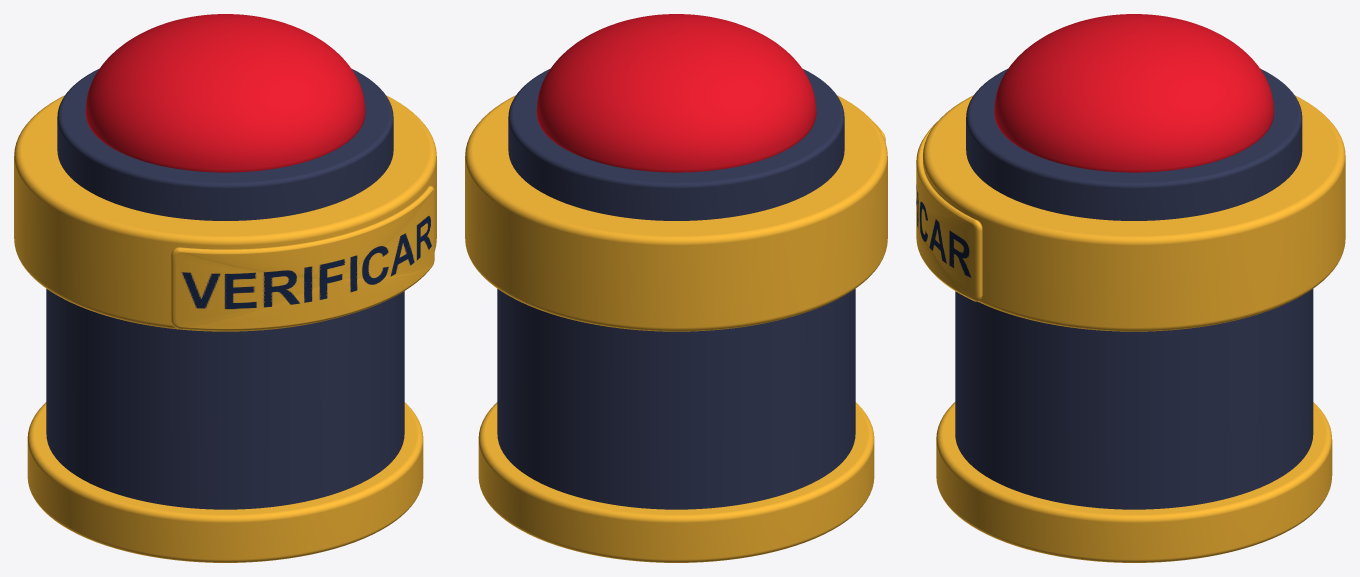
Rendered from VerifyButton.glb.
3 renders of one model, left to right at view 1: azimuth 30°, elevation 25°; view 2: azimuth 150°, elevation 25°; view 3: azimuth 270°, elevation 25°, orthographic.
Parts seen in each view (by area): view 1: Pedestal, Cap, UpperGoldCollar, BottomGoldTrim, VerifyPlaque, ButtonSocket; view 2: Pedestal, UpperGoldCollar, Cap, BottomGoldTrim, ButtonSocket; view 3: Pedestal, UpperGoldCollar, Cap, BottomGoldTrim, ButtonSocket, VerifyPlaque.
Part boxes in pixels (<box>): Pedestal: <box>46,289,404,509</box>; Cap: <box>85,14,365,172</box>; UpperGoldCollar: <box>14,95,436,331</box>; BottomGoldTrim: <box>27,402,423,562</box>; VerifyPlaque: <box>171,186,434,330</box>; ButtonSocket: <box>57,69,393,220</box>; Pedestal: <box>497,289,855,509</box>; UpperGoldCollar: <box>465,95,887,331</box>; Cap: <box>536,14,816,172</box>; BottomGoldTrim: <box>478,402,874,562</box>; ButtonSocket: <box>508,69,844,220</box>; Pedestal: <box>955,289,1313,509</box>; UpperGoldCollar: <box>923,95,1345,331</box>; Cap: <box>994,14,1273,172</box>; BottomGoldTrim: <box>936,402,1332,562</box>; ButtonSocket: <box>966,68,1302,220</box>; VerifyPlaque: <box>916,122,982,301</box>.
Bounding box in the file's own units: 0.85 × 0.992 × 0.863.
Materials: 3 (3 with a texture image).
